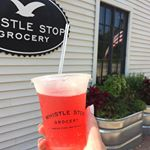cups: (28, 70, 94, 150)
